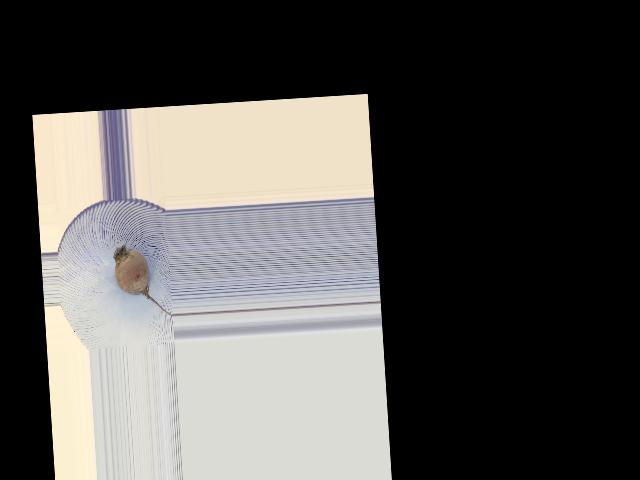beet: (113, 242, 173, 319)
